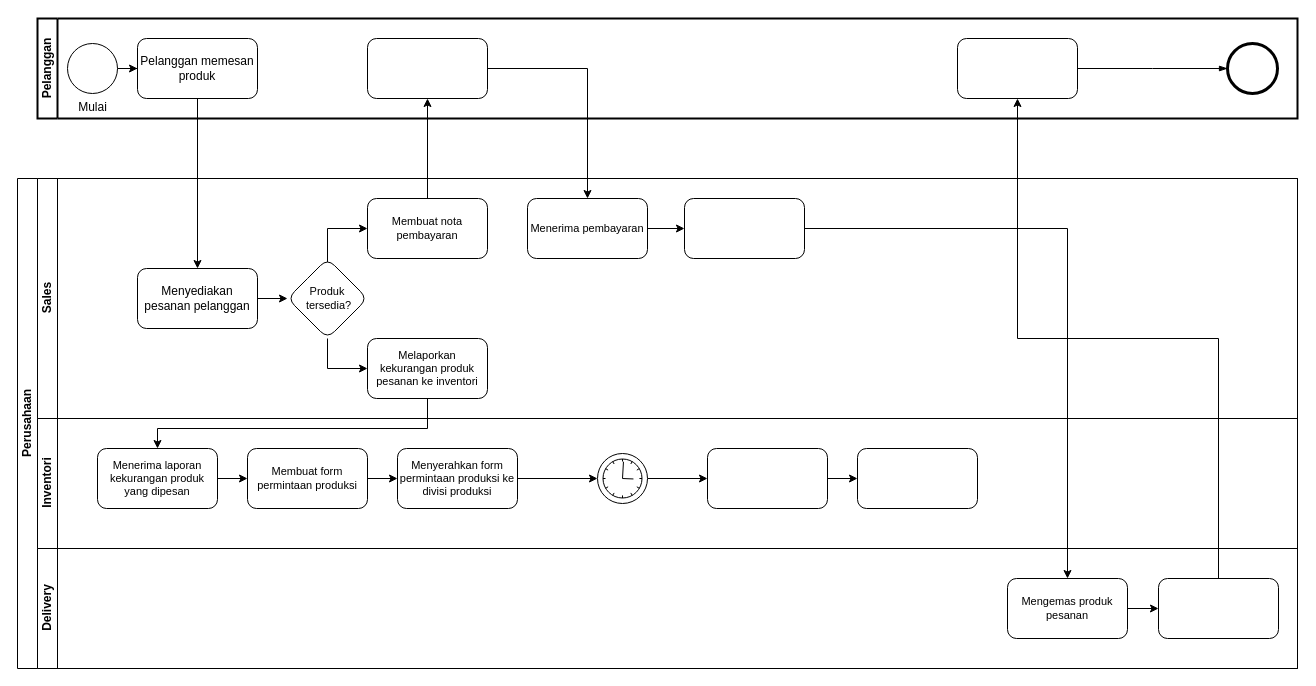
Some shapes in this 1316 by 686 pixel diagram are drawn without their labels. Each missing label, with the centre of its shape:
"Membuat form pengiriman dan meneruskan produk pesanan ke delivery" belongs at (744,228).
"Menerima nota pembayaran dan melakukan pembayaran" belongs at (427,68).
"Menerima pesanan" belongs at (1017,68).
"Menerima produk pesanan yang telah dibuat" belongs at (767,478).
"Meneruskan produk pesanan ke sales" belongs at (917,478).
"Mengirim pesanan ke pelanggan" belongs at (1218,608).
"Menunggu divisi produksi membuat produk yang dipesan" belongs at (622,478).
"Selesai" belongs at (1252,68).
